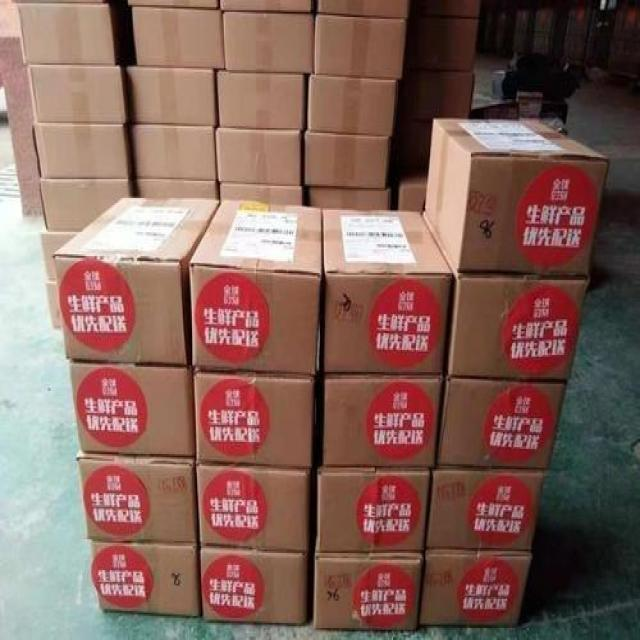box: (55, 191, 216, 371), (426, 116, 608, 274), (190, 198, 324, 378), (322, 202, 456, 371), (445, 271, 592, 388), (192, 356, 319, 475), (68, 353, 198, 469), (188, 453, 318, 562), (434, 370, 564, 476), (74, 446, 198, 550), (426, 460, 550, 554), (318, 368, 439, 462), (310, 549, 436, 636), (316, 461, 432, 555), (86, 538, 206, 626), (422, 545, 534, 638), (200, 540, 312, 629), (118, 0, 233, 73), (17, 64, 136, 134), (114, 54, 223, 129), (22, 116, 128, 185), (308, 66, 396, 148), (214, 69, 306, 141), (11, 0, 115, 63), (312, 12, 407, 79), (206, 124, 302, 190), (300, 124, 390, 190), (125, 117, 216, 180), (222, 12, 316, 72), (32, 176, 132, 230)
